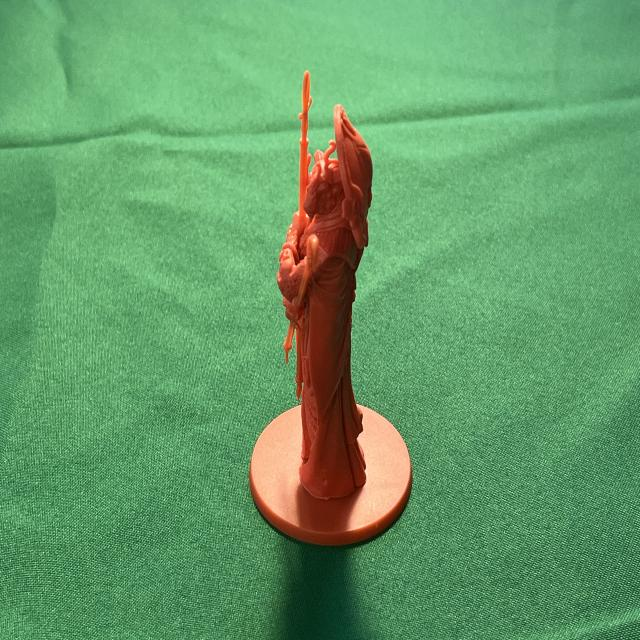amon: (245, 61, 416, 549)
